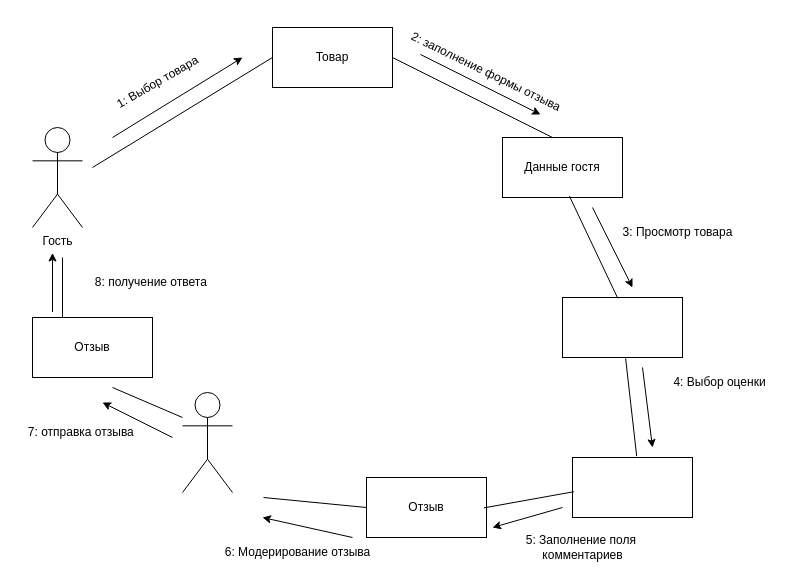
Some shapes in this 796 by 585 pixel diagram are drawn without their labels. Here are the shapes that lost their labels. From the top down, the centre of each, then its label:
pixel 622 327: Оценка
pixel 207 442: Администратор
pixel 632 487: Комментарий
